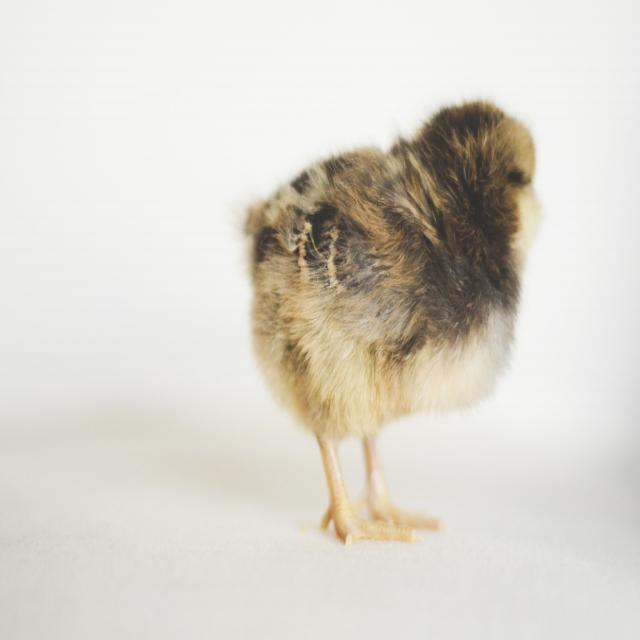Chicken: (262, 86, 530, 578)
